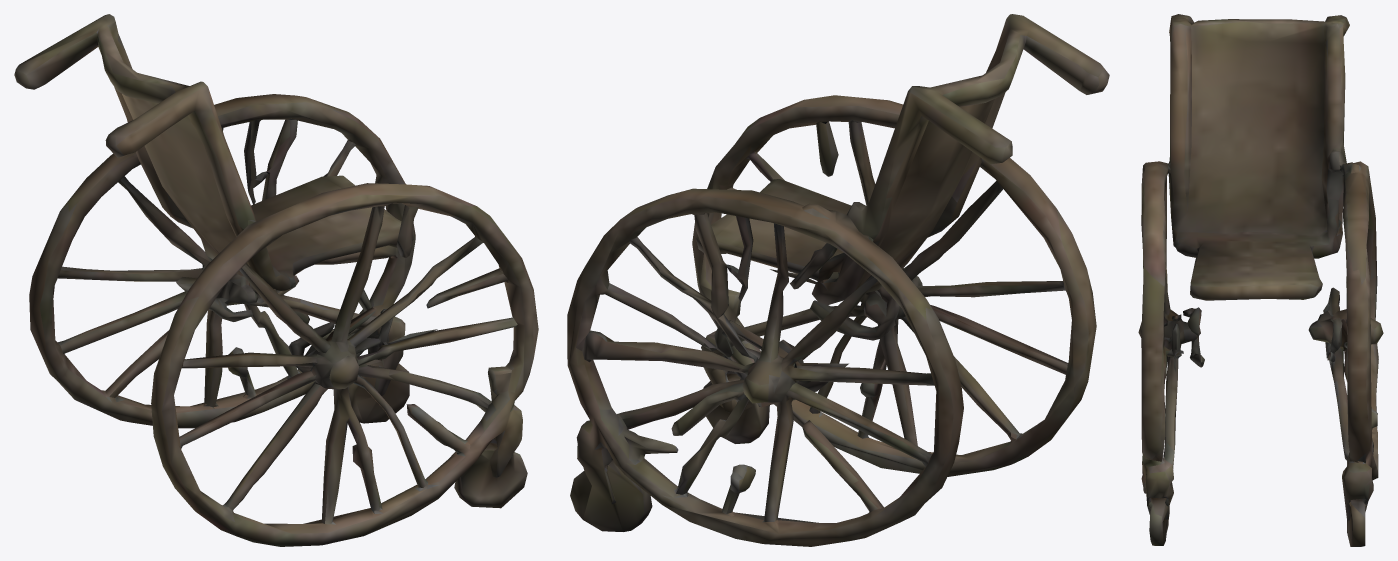
File: worn-wood-wheelchair-v001.glb
3 views of the same model, side by side, from view 1: azimuth 30°, elevation 25°; view 2: azimuth 150°, elevation 25°; view 3: azimuth 270°, elevation 25° (orthographic). The views are drawn at different scales.
Parts seen in each view (by area): view 1: worn-wood-wheelchair; view 2: worn-wood-wheelchair; view 3: worn-wood-wheelchair.
Boxes of the visible parts, box(x1,y1,x2,y2) form: worn-wood-wheelchair: box(14, 14, 538, 546); worn-wood-wheelchair: box(567, 14, 1109, 546); worn-wood-wheelchair: box(1138, 14, 1383, 546).
Size of the model in its own units: 0.8371 by 0.9426 by 0.5142.
Materials: 1 (1 with a texture image).
